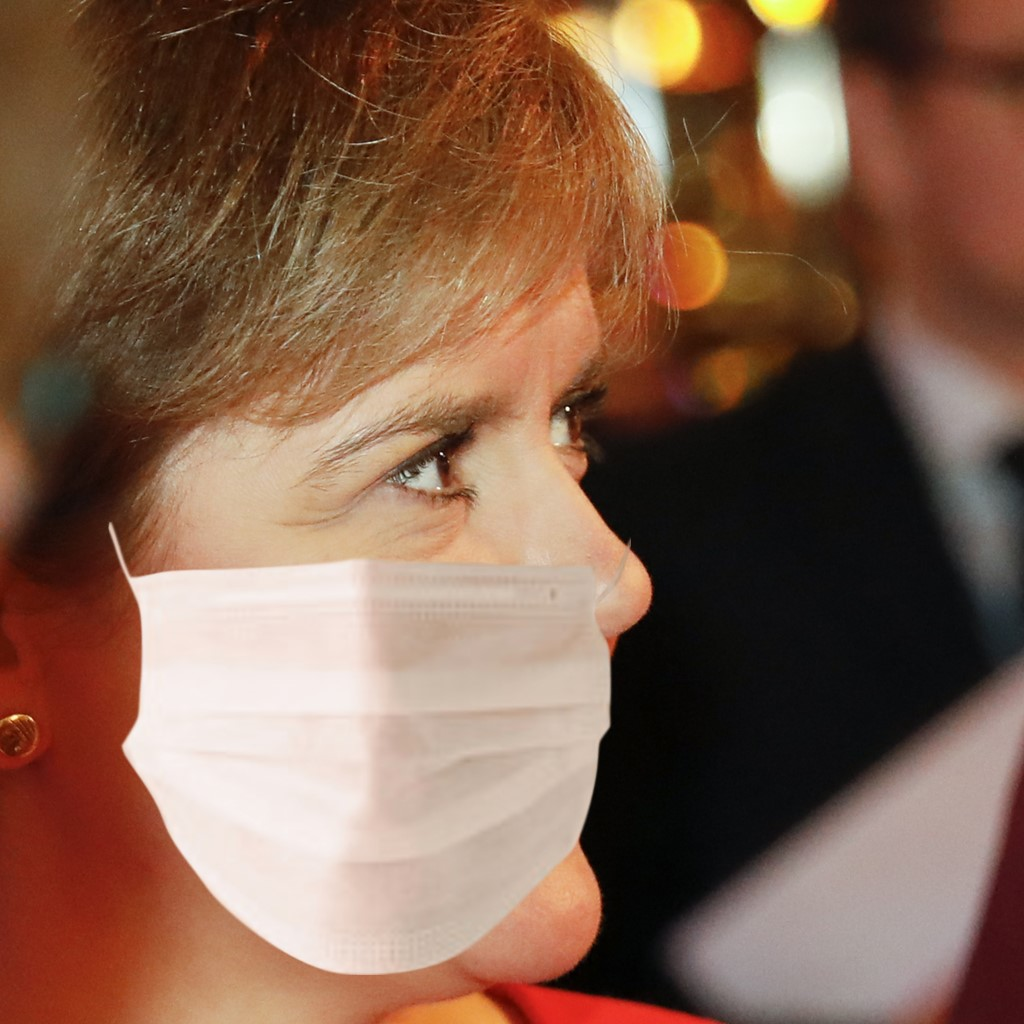con_mascara: (78, 82, 660, 994)
